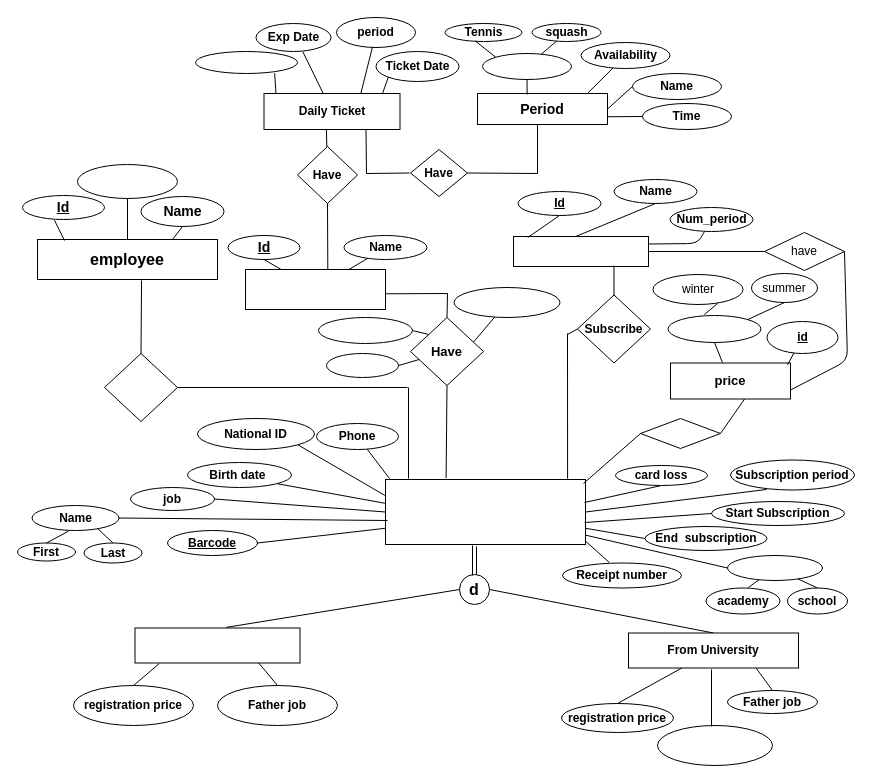
The diagram is 872 pixels wide and 783 high, and some of its shapes have lost their labels. The shapes that lost their labels are listed below. From the top down, each one's centre as x and y in pixels, then its label:
At (246,62): "Ticket Barcode".
At (527,66): "Activity Name".
At (127,181): "Password".
At (580,251): "Months".
At (315,289): "Activity".
At (506,302): "Cust_Barcode".
At (365,330): "Activity _id".
At (714,328): "season".
At (362,365): "Counter".
At (141,387): "Register".
At (680,433): "pay".
At (485,511): "Customer".
At (774,567): "activity type".
At (217,645): "Out University".
At (714,745): "FORM **".
